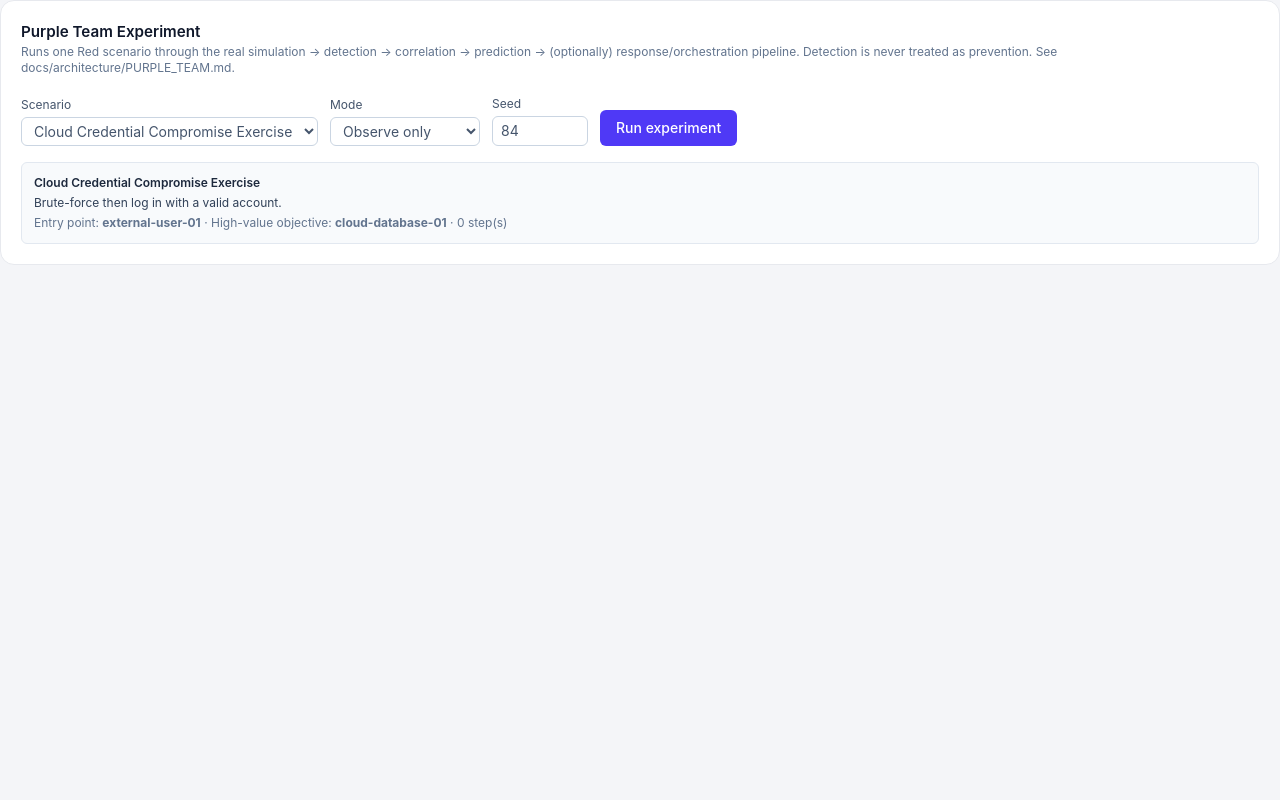
Test: Purple Team panel › uses expected_detectable_steps, not total_steps, as the coverage denominator
This screenshot has width=1280, height=800.
Click the button "Run experiment" at [669, 128], box left=600, top=110, right=737, bottom=146
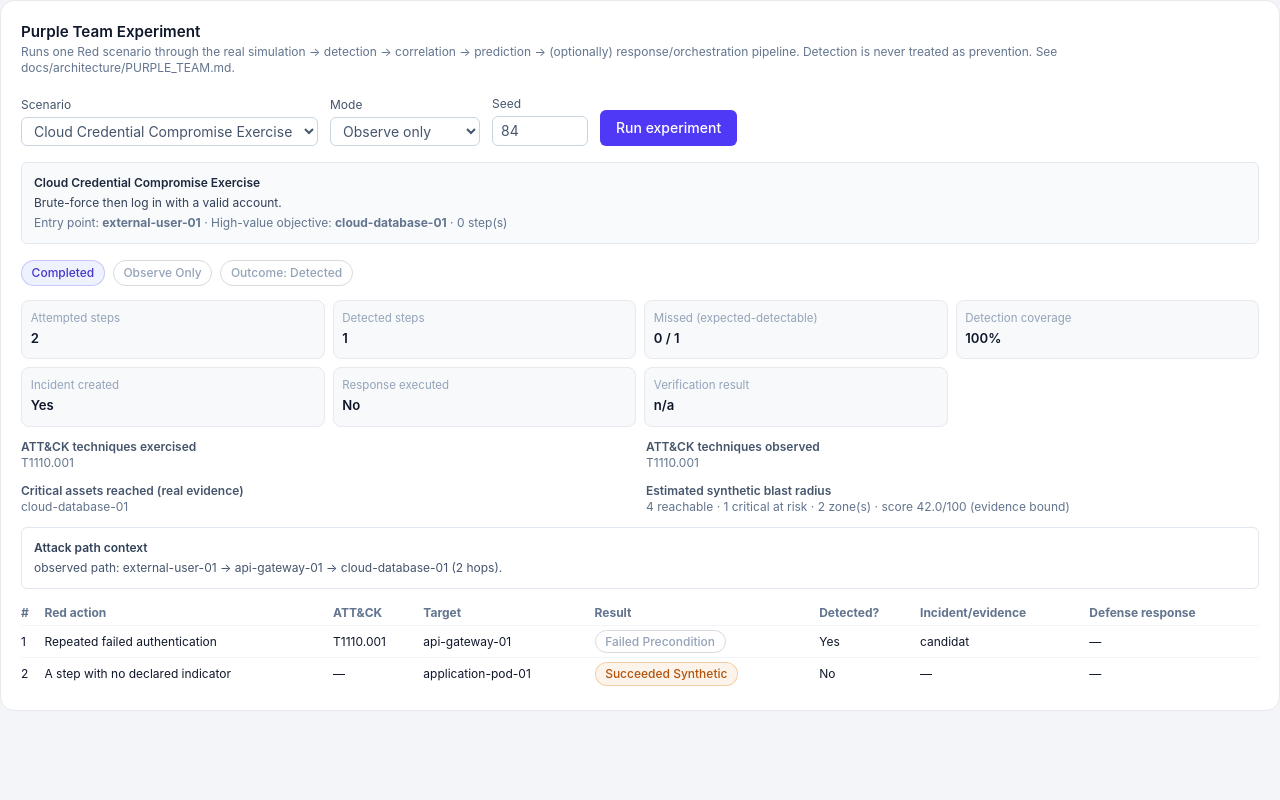
Expected: the text "0 / 1" is shown, left=654, top=330, right=680, bottom=346
Expected: the text "100%" is shown, left=965, top=330, right=1001, bottom=346
